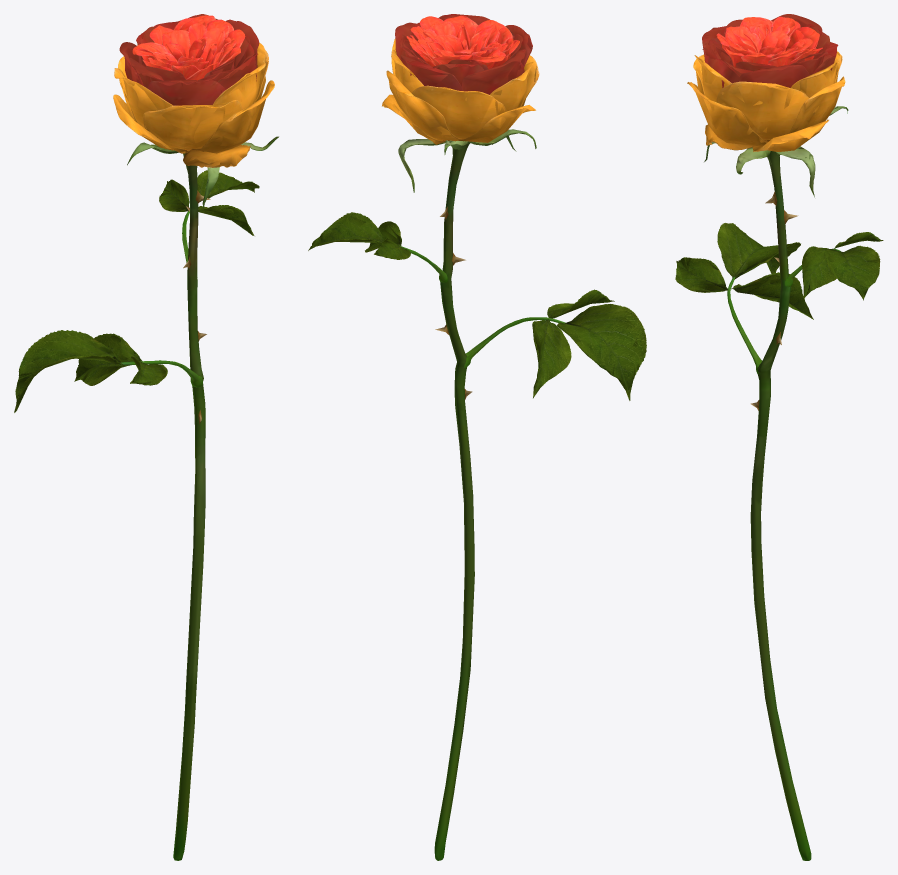
Rendered from gul-turuncu.glb.
3 views of the same model, side by side, from view 1: azimuth 30°, elevation 25°; view 2: azimuth 150°, elevation 25°; view 3: azimuth 270°, elevation 25° (orthographic). The views are drawn at different scales.
Parts seen in each view (by area): view 1: stem_001_stem_006_004.001_stem_0, petal_034_petal_166_004.001_6-1max_0, leaf_001_leaf_010_004.001_leaf_0, petal_001_5p_petal_001_006_004.001_(5)1-1max_0, petal_011_petal_140_004.001_4-1max_0, petal_001_petal_165_004.001_2-1max_0, petal_044_petal_176_004.001_7-1max ending_0, petal_041_petal_159_004.001_7-1max_0, stem_002_1_stem_007_004.001_stem-S_0; view 2: leaf_001_leaf_010_004.001_leaf_0, stem_001_stem_006_004.001_stem_0, petal_034_petal_166_004.001_6-1max_0, petal_001_5p_petal_001_006_004.001_(5)1-1max_0, petal_011_petal_140_004.001_4-1max_0, petal_001_petal_165_004.001_2-1max_0, petal_041_petal_159_004.001_7-1max_0, stem_002_1_stem_007_004.001_stem-S_0; view 3: stem_001_stem_006_004.001_stem_0, leaf_001_leaf_010_004.001_leaf_0, petal_034_petal_166_004.001_6-1max_0, petal_001_5p_petal_001_006_004.001_(5)1-1max_0, petal_011_petal_140_004.001_4-1max_0, petal_001_petal_165_004.001_2-1max_0, petal_041_petal_159_004.001_7-1max_0, stem_002_1_stem_007_004.001_stem-S_0, petal_044_petal_176_004.001_7-1max ending_0.
Boxes of the visible parts, <box> form: stem_001_stem_006_004.001_stem_0: <box>127,136,278,860</box>; petal_034_petal_166_004.001_6-1max_0: <box>114,43,274,152</box>; leaf_001_leaf_010_004.001_leaf_0: <box>14,170,259,412</box>; petal_001_5p_petal_001_006_004.001_(5)1-1max_0: <box>119,14,259,105</box>; petal_011_petal_140_004.001_4-1max_0: <box>132,15,245,80</box>; petal_001_petal_165_004.001_2-1max_0: <box>148,23,231,69</box>; petal_044_petal_176_004.001_7-1max ending_0: <box>183,145,250,168</box>; petal_041_petal_159_004.001_7-1max_0: <box>113,94,192,153</box>; stem_002_1_stem_007_004.001_stem-S_0: <box>119,210,202,387</box>; leaf_001_leaf_010_004.001_leaf_0: <box>308,212,646,400</box>; stem_001_stem_006_004.001_stem_0: <box>398,129,536,860</box>; petal_034_petal_166_004.001_6-1max_0: <box>386,39,539,141</box>; petal_001_5p_petal_001_006_004.001_(5)1-1max_0: <box>395,14,532,94</box>; petal_011_petal_140_004.001_4-1max_0: <box>406,15,519,68</box>; petal_001_petal_165_004.001_2-1max_0: <box>423,21,507,56</box>; petal_041_petal_159_004.001_7-1max_0: <box>382,94,535,144</box>; stem_002_1_stem_007_004.001_stem-S_0: <box>399,245,565,367</box>; stem_001_stem_006_004.001_stem_0: <box>704,106,848,860</box>; leaf_001_leaf_010_004.001_leaf_0: <box>675,223,883,319</box>; petal_034_petal_166_004.001_6-1max_0: <box>687,51,845,146</box>; petal_001_5p_petal_001_006_004.001_(5)1-1max_0: <box>702,14,838,87</box>; petal_011_petal_140_004.001_4-1max_0: <box>716,16,822,67</box>; petal_001_petal_165_004.001_2-1max_0: <box>727,20,806,56</box>; petal_041_petal_159_004.001_7-1max_0: <box>752,119,828,151</box>; stem_002_1_stem_007_004.001_stem-S_0: <box>727,248,840,373</box>; petal_044_petal_176_004.001_7-1max ending_0: <box>705,124,752,150</box>.
Bounding box in the file's own units: 0.171 × 0.4733 × 0.1085.
10 materials, 10 textured.
